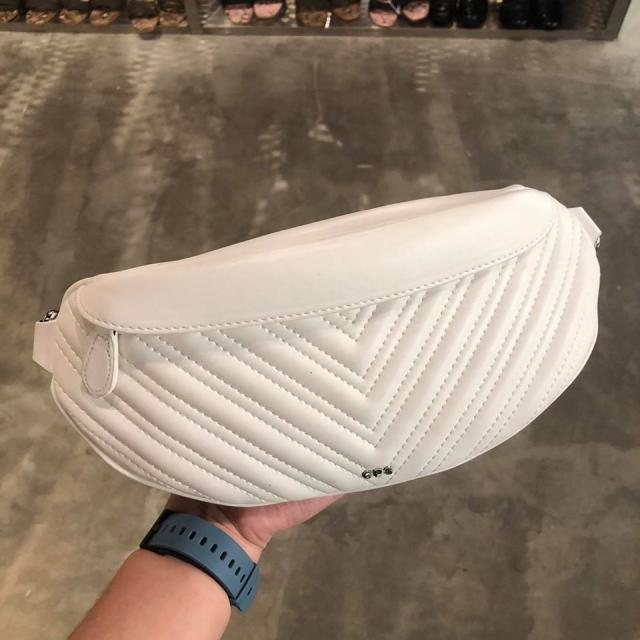handbag: (38, 183, 606, 512)
